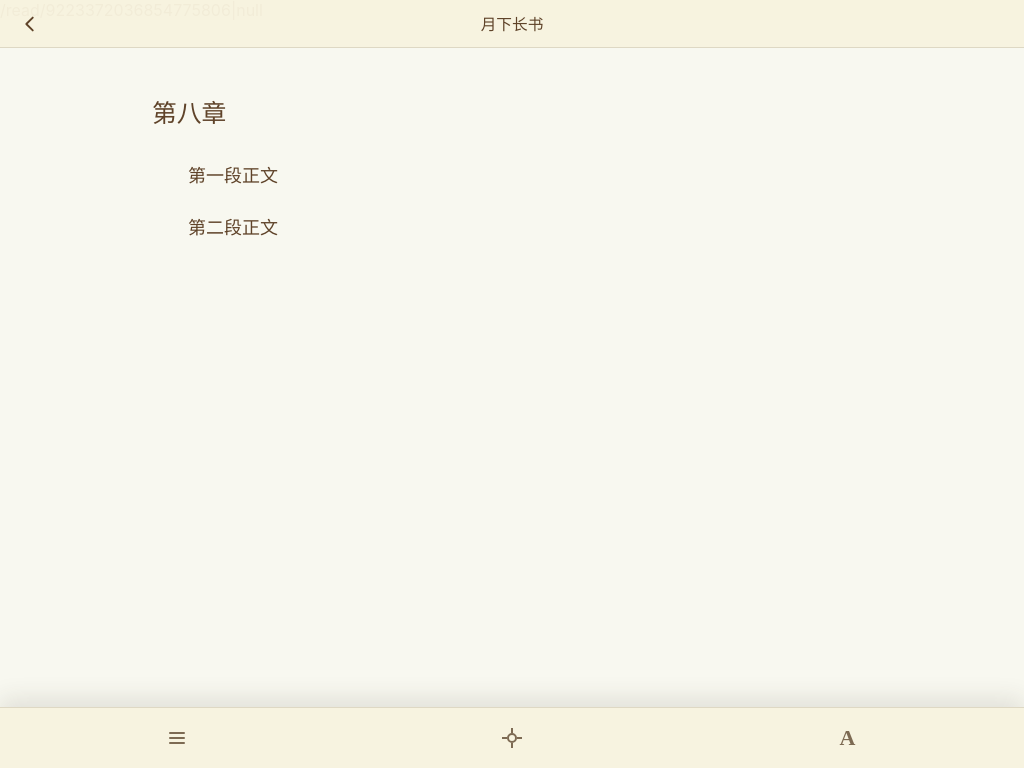
Test: ReaderPage history restoration › attaches scroll-mode palette and settings panels directly above the dock
expect the text "第一段正文" is shown: met, box [188,165,278,186]
Click the button named "配色" at (512, 738), box [347,716,677,760]
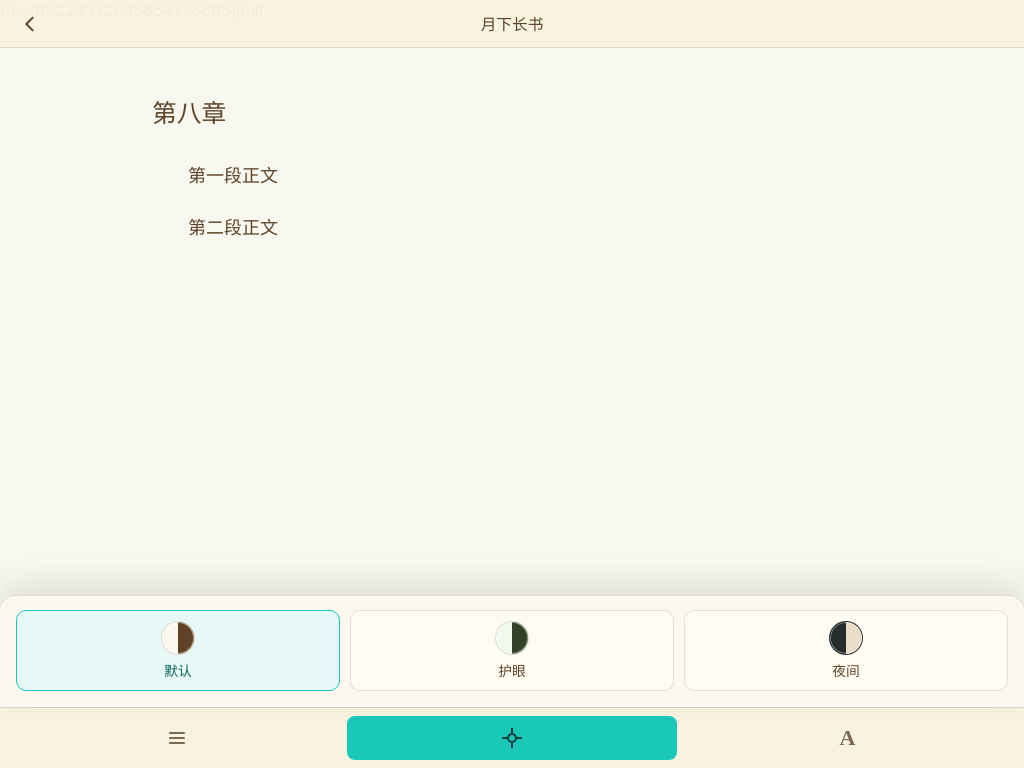
Click the button named "设置" at (847, 738), box [683,716,1012,760]
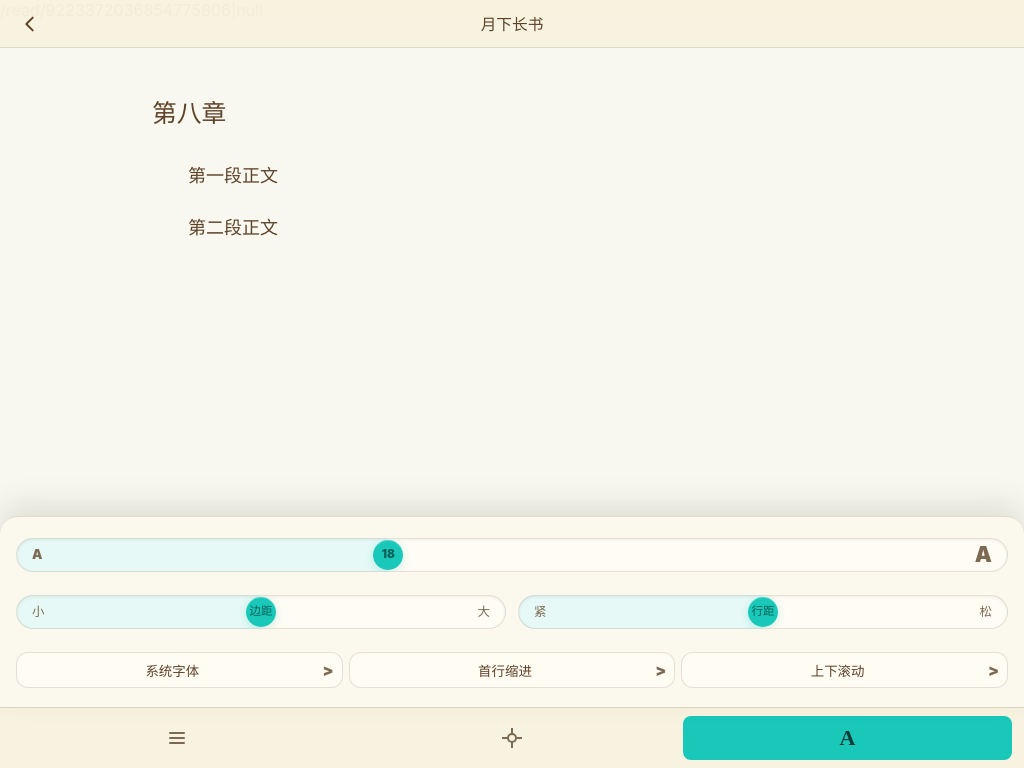
expect the element with class "reader-palette-popover" is gone: met
